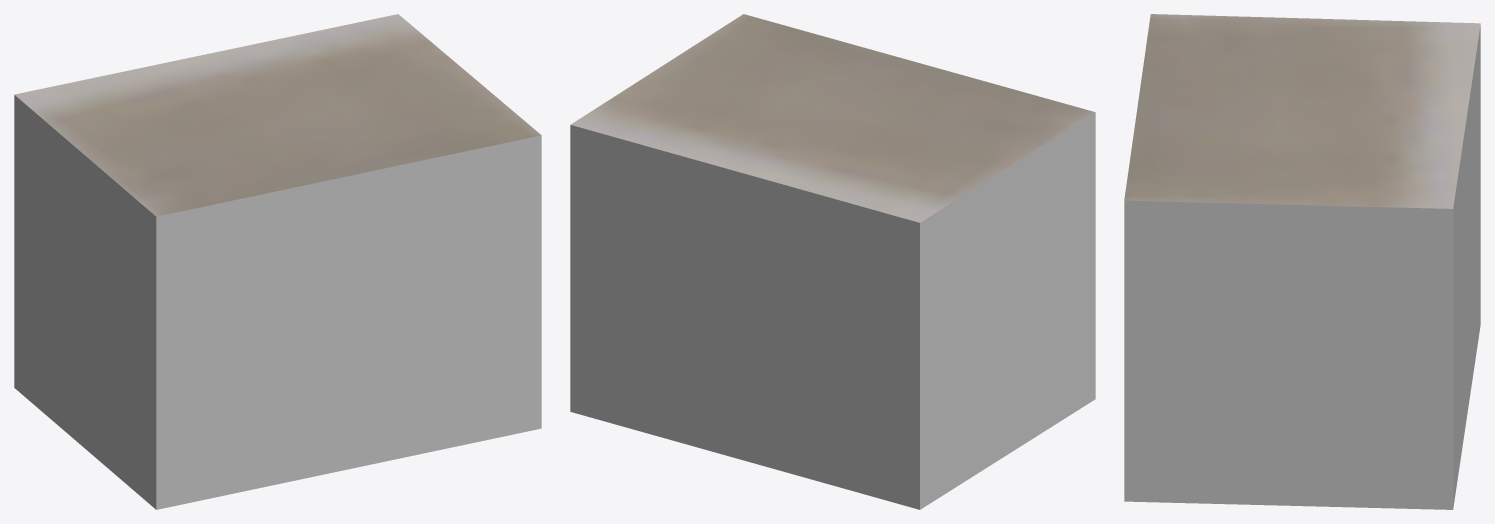
File: DEBW_0010007THYz.gltf
3 views of the same model, side by side, from view 1: azimuth 30°, elevation 25°; view 2: azimuth 150°, elevation 25°; view 3: azimuth 270°, elevation 25° (orthographic). The views are drawn at different scales.
Visible parts, largest first — view 1: Z_UP; view 2: Z_UP; view 3: Z_UP.
Boxes of the visible parts, x1,y1,x2,y2 form: Z_UP: (14,14,541,509); Z_UP: (570,14,1095,509); Z_UP: (1124,14,1480,509).
Bounding box in the file's own units: 4.18 × 3.01 × 3.23.
Materials: 2 (1 with a texture image).
